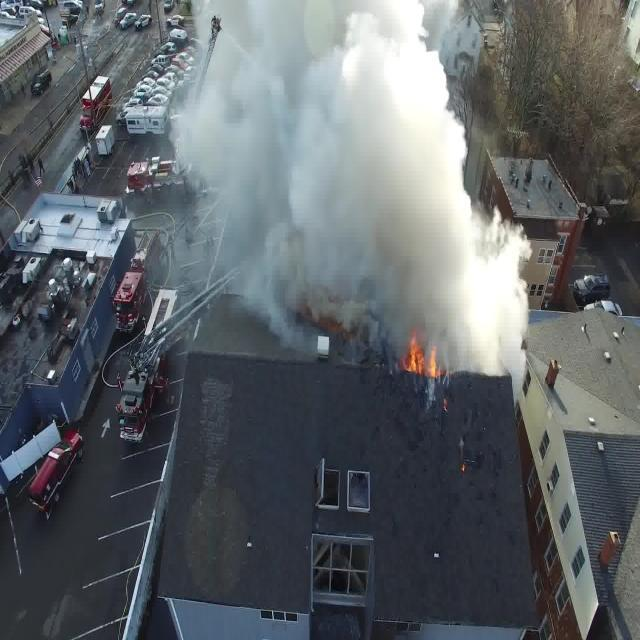Fire: (402, 330, 444, 393)
Smoke: (205, 0, 480, 260), (292, 131, 448, 254), (86, 79, 104, 104)
